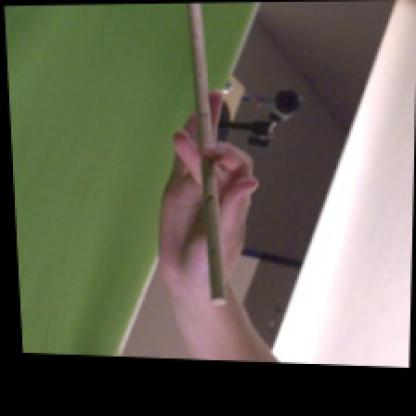Hand: (157, 88, 259, 304)
